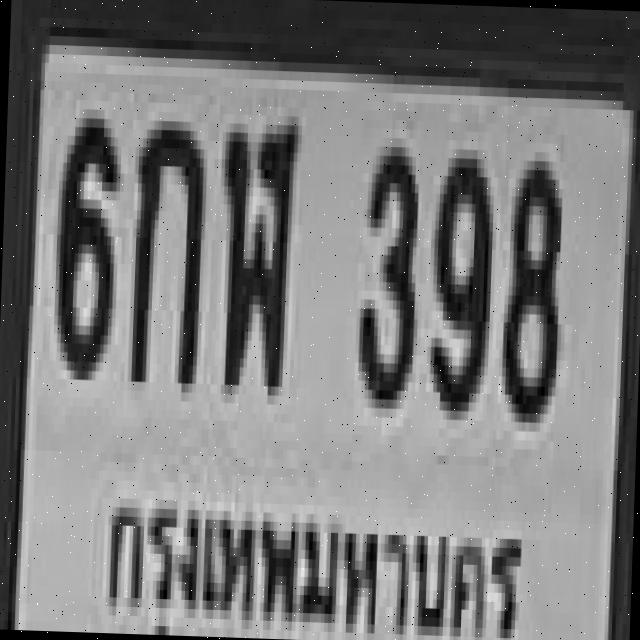10GorGai: (128, 110, 202, 384)
3: (354, 136, 416, 400)
51LorChula: (213, 114, 294, 386)
6: (48, 108, 115, 371)
8: (496, 150, 560, 414)
9: (424, 144, 492, 407)
Bangkok: (89, 469, 526, 640)
